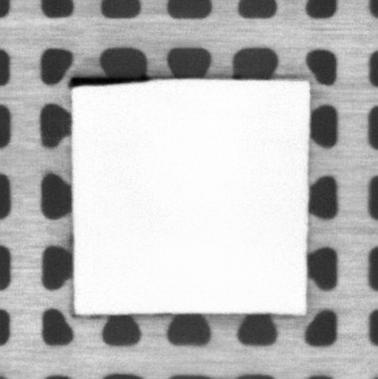DIE_BROKEN: (69, 74, 153, 88)
